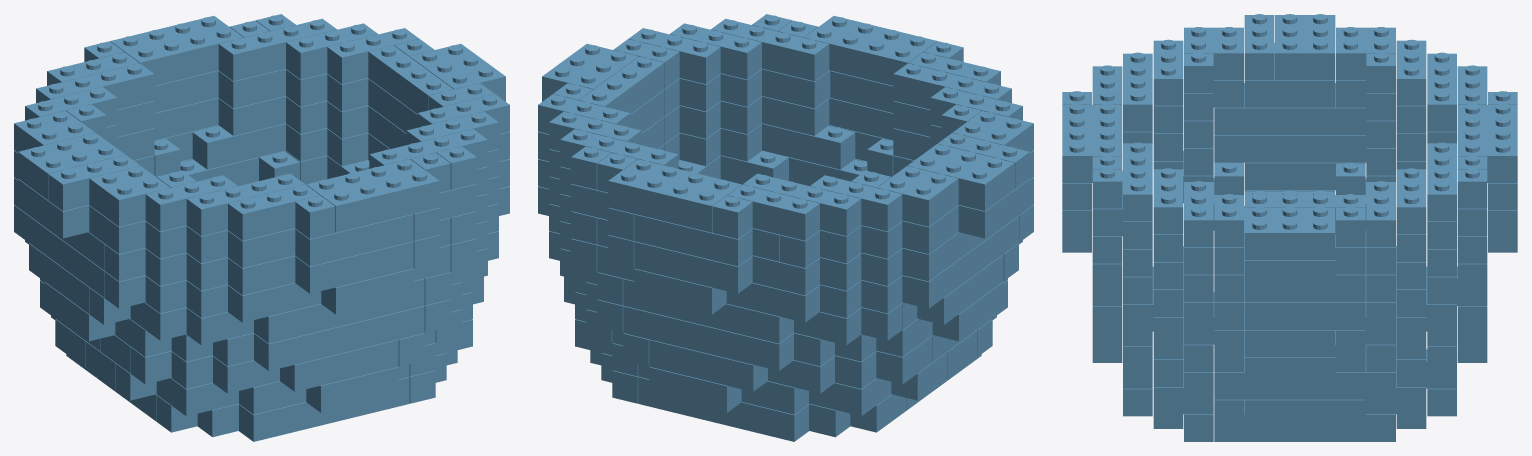
The model's file is 099_bowl_L4.glb.
The picture shows the model from 3 angles, left to right: view 1: azimuth 30°, elevation 25°; view 2: azimuth 150°, elevation 25°; view 3: azimuth 270°, elevation 25°; orthographic projection.
Bounding box in the file's own units: 16.98 × 9.13 × 14.98.
